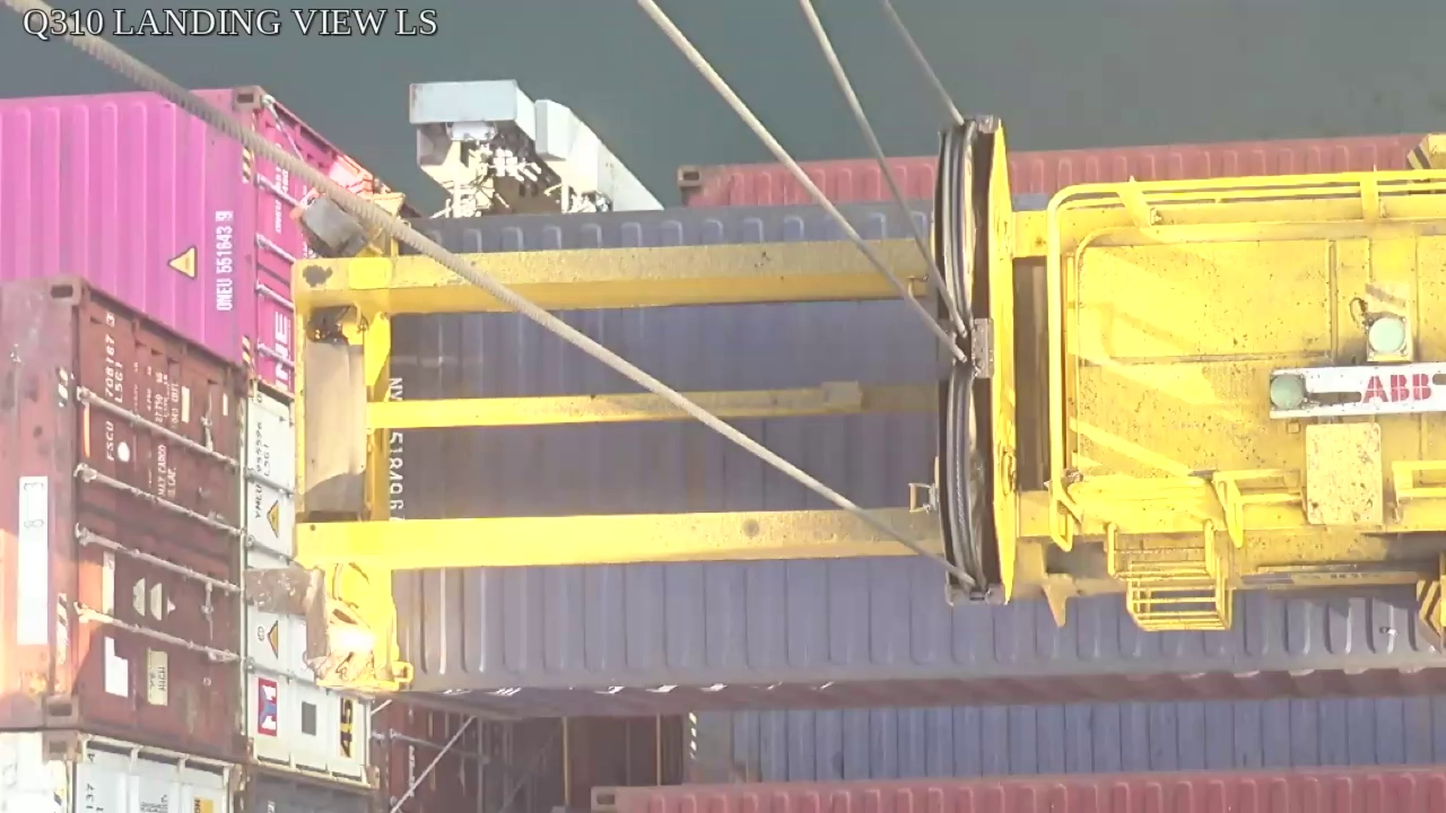aa: (937, 117, 1025, 608)
